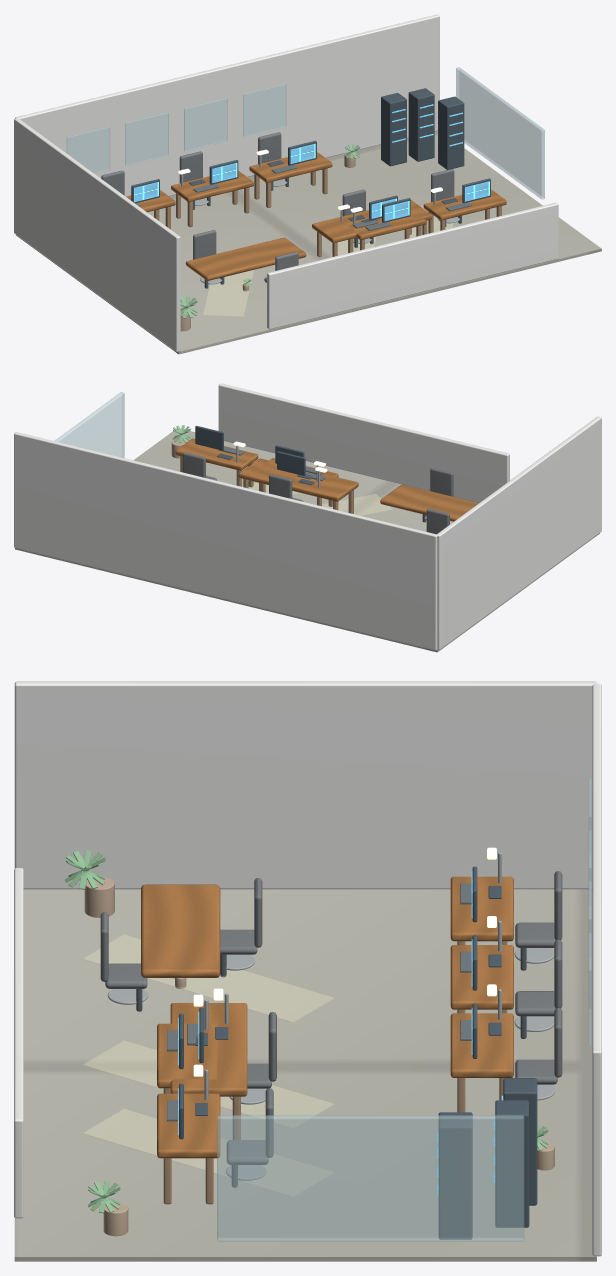
Rendered from office.glb.
3 views of the same model, one above another, from view 1: azimuth 30°, elevation 25°; view 2: azimuth 150°, elevation 25°; view 3: azimuth 270°, elevation 25° (orthographic). The views are drawn at different scales.
Visible parts, largest first — view 1: back_wall, floor, left_wall, front_half_wall, glass_wall, meeting_table, sun_window_-0.6, sun_window_-2.1, sun_window_0.9, rack_c, rack_b, rack_a (+12 smaller); view 2: back_wall, left_wall, front_half_wall, floor, glass_wall, desk_curved_main_top, meeting_table, desk_front_b_top, sun_patch_0.4, chair_meet_b_back, desk_front_b_monitor, desk_curved_main_monitor (+3 smaller); view 3: floor, left_wall, glass_wall, meeting_table, back_wall, sun_patch_-2.7, sun_patch_2.4, rack_b, rack_c, sun_patch_0.4, desk_curved_main_top, desk_back_c_top (+14 smaller).
Part boxes in pixels (x1,y1,x2,y2): back_wall: (15,14,439,196); floor: (16,131,601,354); left_wall: (14,118,180,351); front_half_wall: (267,202,558,329); glass_wall: (456,67,544,199); meeting_table: (185,237,306,280); sun_window_-0.6: (184,98,227,151); sun_window_-2.1: (125,112,168,165); sun_window_0.9: (243,83,286,136); rack_c: (438,96,464,169); rack_b: (408,88,434,161); rack_a: (381,93,406,166); back_wall: (14,432,437,650); left_wall: (437,416,601,649); front_half_wall: (218,383,509,502); floor: (15,428,599,652); glass_wall: (55,392,124,457); desk_curved_main_top: (238,458,358,501); meeting_table: (380,484,478,521); desk_front_b_top: (175,438,258,470); sun_patch_0.4: (322,494,392,515); chair_meet_b_back: (430,468,453,496); desk_front_b_monitor: (195,425,223,450); desk_curved_main_monitor: (277,451,305,475); floor: (14,889,596,1261); left_wall: (14,681,596,889); glass_wall: (217,1115,524,1241); meeting_table: (141,884,220,977); back_wall: (592,683,601,1256); sun_patch_-2.7: (82,934,334,1022); sun_patch_2.4: (82,1108,334,1196); rack_b: (495,1100,529,1227); rack_c: (438,1112,472,1239); sun_patch_0.4: (82,1040,334,1128); desk_curved_main_top: (170,1003,247,1096); desk_back_c_top: (450,1013,513,1077).
Bounding box in the file's own units: 10.86 × 2.86 × 7.27.
Materials: 15 (3 with a texture image).
